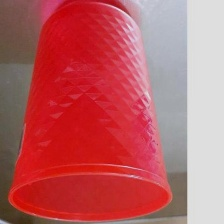glass: (6, 0, 187, 224)
